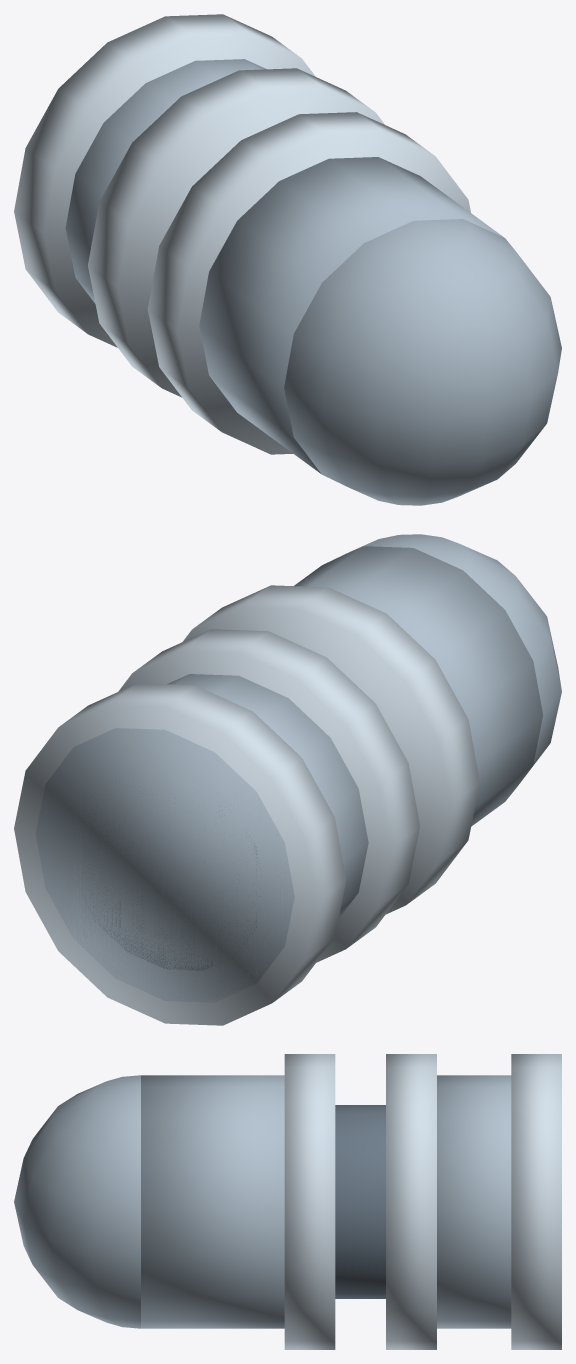
File: pipe_cap.glb
3 views of the same model, one above another, from view 1: azimuth 30°, elevation 25°; view 2: azimuth 150°, elevation 25°; view 3: azimuth 270°, elevation 25° (orthographic). The views are drawn at different scales.
Parts seen in each view (by area): view 1: Pipe_Shell, Pipe_Collar; view 2: Pipe_Shell, Pipe_Collar, Pipe_Water; view 3: Pipe_Shell, Pipe_Collar, Pipe_Water.
Part boxes in pixels (x1,y1,x2,y2): Pipe_Shell: (65, 59, 561, 505); Pipe_Collar: (14, 14, 470, 454); Pipe_Shell: (35, 534, 561, 1002); Pipe_Collar: (14, 585, 479, 1025); Pipe_Water: (82, 793, 260, 970); Pipe_Shell: (14, 1075, 511, 1328); Pipe_Collar: (284, 1054, 561, 1349); Pipe_Water: (335, 1105, 385, 1298).
Size of the model in its own units: 0.35 by 0.35 by 0.648.
